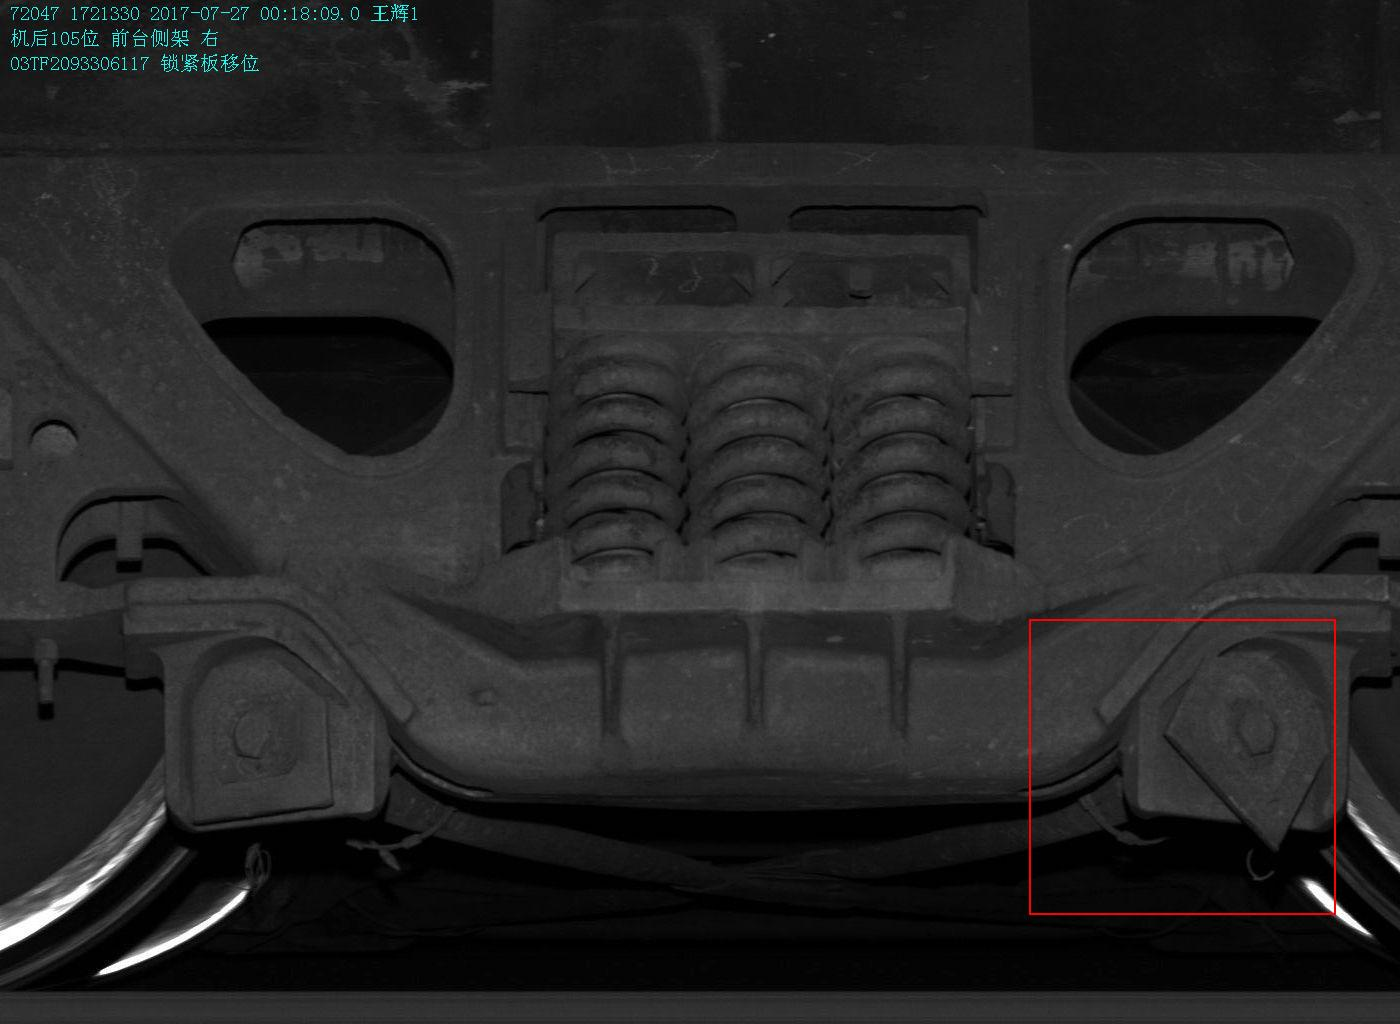Locking plate: (1139, 632, 1347, 856)
normal: (161, 632, 373, 836)
